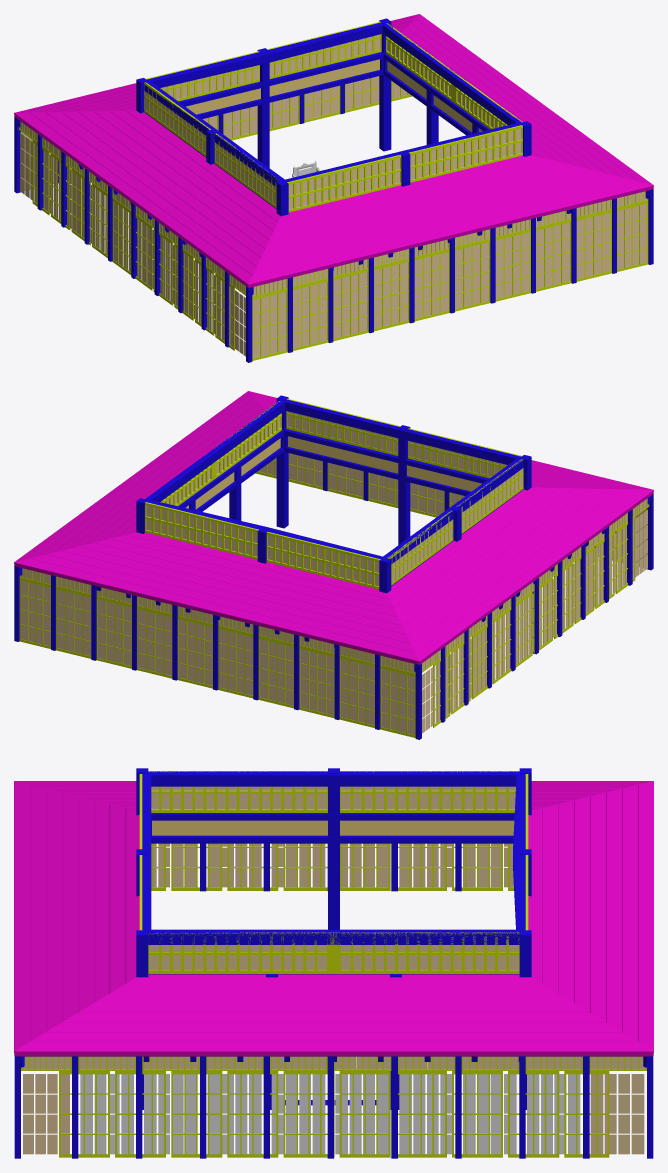
File: Piece_ampoule.fbx
3 views of the same model, one above another, from view 1: azimuth 30°, elevation 25°; view 2: azimuth 150°, elevation 25°; view 3: azimuth 270°, elevation 25° (orthographic). The views are drawn at different scales.
Visible parts, largest first — view 1: Plane.000, Cube.006, Cube.005, Cube.001, Cube.003, Plane.006, Plane.011, Plane.008, Cube.002, Plane.009, Plane.003, Cube.008 (+9 smaller); view 2: Plane.000, Cube.006, Cube.003, Cube.005, Cube.001, Plane.006, Plane.011, Plane.008, Cube.002, Plane.009, Plane.003, Cube.008 (+9 smaller); view 3: Plane.000, Cube.000, Cube.003, Cube.002, Plane.006, Plane.010, Plane.009, Cube.001, Cube.009, Plane.014, Plane.013, Plane.003 (+2 smaller).
Part boxes in pixels (x1,y1,x2,y2): Plane.000: (14,14,653,287); Cube.006: (21,76,646,358); Cube.005: (20,78,648,360); Cube.001: (14,84,653,362); Cube.003: (20,133,245,356); Plane.006: (144,22,521,185); Plane.011: (146,21,522,212); Plane.008: (161,34,521,209); Cube.002: (32,140,234,350); Plane.009: (144,23,522,208); Plane.003: (136,18,531,216); Cube.008: (252,191,646,296); Plane.000: (14,391,653,664); Cube.006: (21,453,646,735); Cube.003: (422,510,647,733); Cube.005: (19,455,647,737); Cube.001: (14,461,653,739); Plane.006: (145,399,523,564); Plane.011: (145,398,521,589); Plane.008: (146,411,506,586); Cube.002: (433,517,635,727); Plane.009: (160,401,523,585); Plane.003: (136,395,531,593); Cube.008: (21,568,415,673); Plane.000: (14,781,653,1056); Cube.000: (80,1074,580,1154); Cube.003: (23,843,644,1154); Cube.002: (59,843,609,1157); Plane.006: (142,771,525,944); Plane.010: (149,786,518,970); Plane.009: (148,771,519,973); Cube.001: (14,843,653,1158); Cube.009: (22,1056,645,1069); Plane.014: (149,813,518,974); Plane.013: (152,820,514,835); Plane.003: (136,768,531,1109).
Bounding box in the file's own units: 3054 × 920 × 3054.
